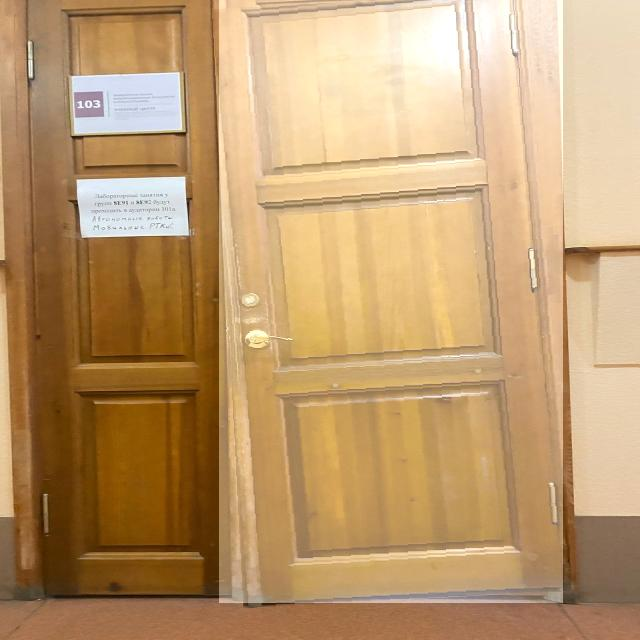doorhandle: (219, 0, 563, 603), (242, 318, 309, 354)
